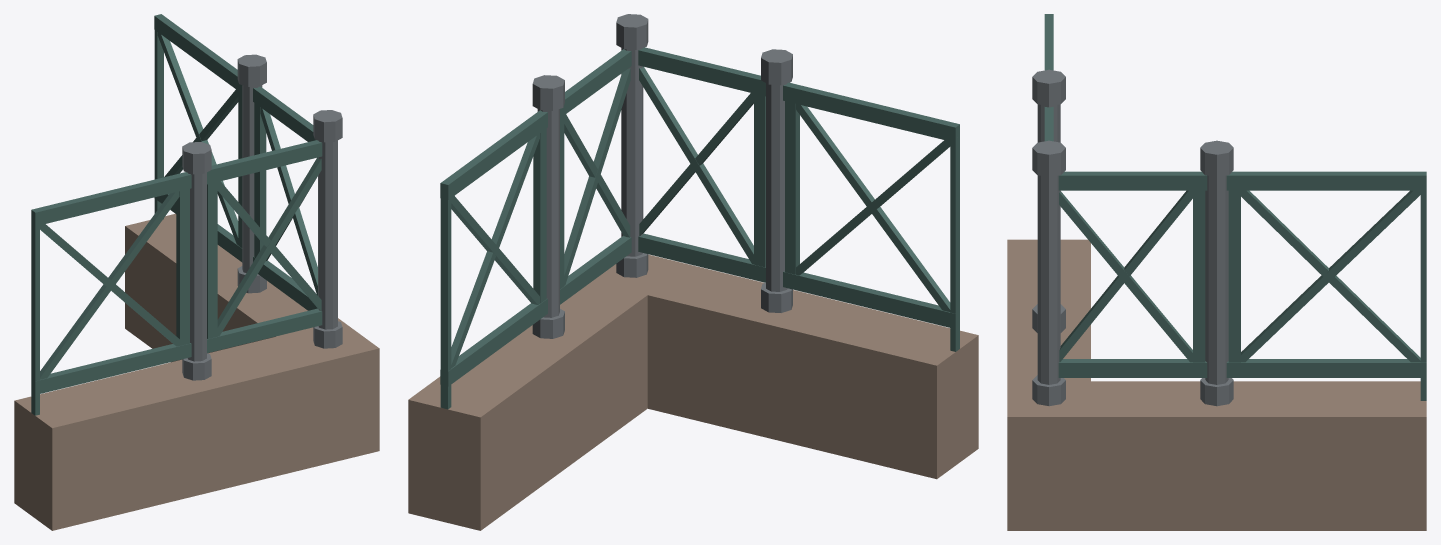
The model's file is Fence_02.fbx.
3 renders of one model, left to right at view 1: azimuth 30°, elevation 25°; view 2: azimuth 150°, elevation 25°; view 3: azimuth 270°, elevation 25°, orthographic. The views are drawn at different scales.
Visible parts, largest first — view 1: Fence_02; view 2: Fence_02; view 3: Fence_02.
Part boxes in pixels (x1,y1,x2,y2): Fence_02: (14, 14, 379, 530); Fence_02: (408, 14, 978, 530); Fence_02: (1007, 14, 1426, 530).
Size of the model in its own units: 100 by 96.12 by 100.
